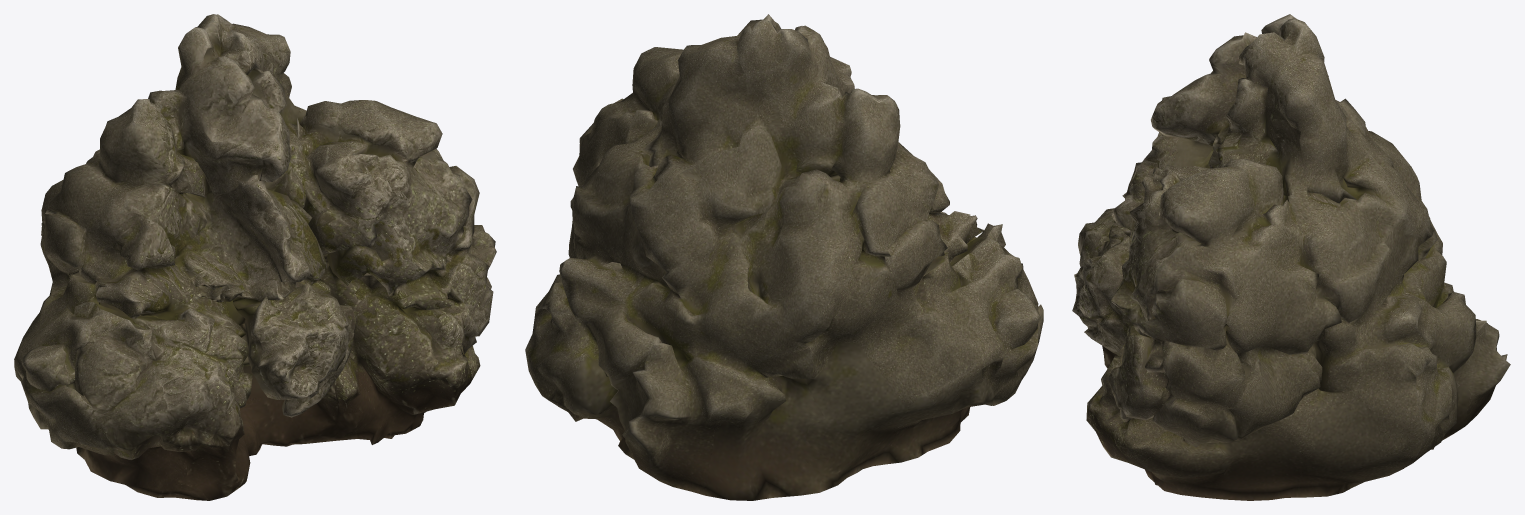
Rendered from nat-rock-a_optimized.glb.
3 views of the same model, side by side, from view 1: azimuth 30°, elevation 25°; view 2: azimuth 150°, elevation 25°; view 3: azimuth 270°, elevation 25° (orthographic). The views are drawn at different scales.
Parts seen in each view (by area): view 1: Mesh_0; view 2: Mesh_0; view 3: Mesh_0.
Boxes of the visible parts, x1,y1,x2,y2 form: Mesh_0: (14, 14, 496, 500); Mesh_0: (525, 14, 1043, 500); Mesh_0: (1072, 14, 1510, 500).
Size of the model in its own units: 0.958 by 0.8036 by 0.7935.
Materials: 1 (1 with a texture image).
